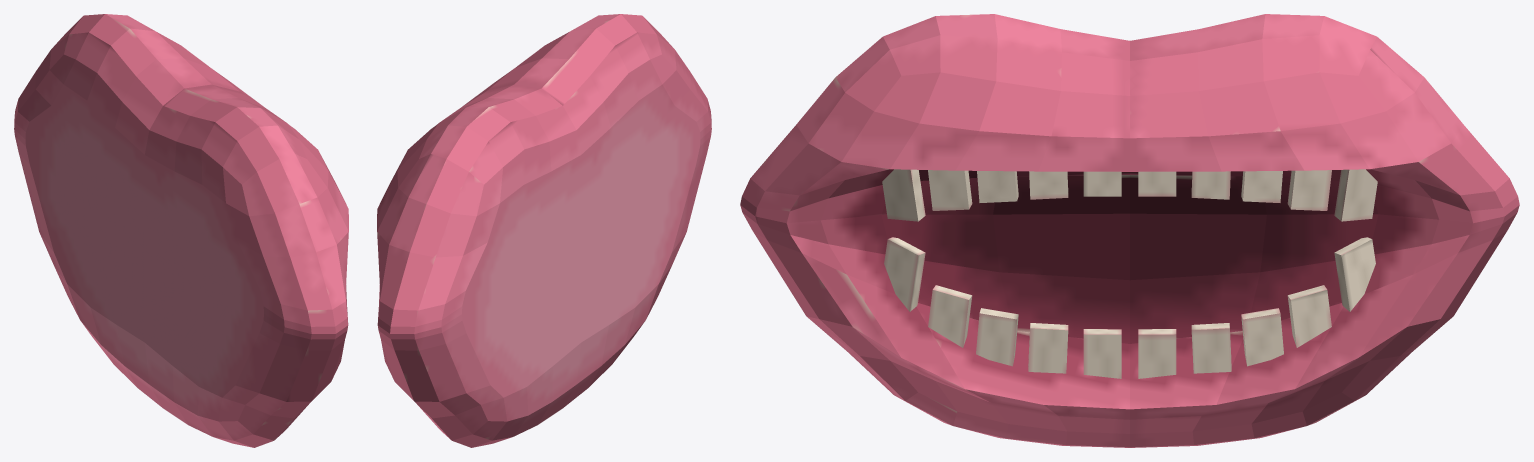
The model's file is mouth_bomb.fbx.
3 renders of one model, left to right at view 1: azimuth 30°, elevation 25°; view 2: azimuth 150°, elevation 25°; view 3: azimuth 270°, elevation 25°, orthographic. The views are drawn at different scales.
Visible parts, largest first — view 1: Box005; view 2: Box005; view 3: Box005.
Boxes of the visible parts, x1,y1,x2,y2 form: Box005: [14, 14, 348, 447]; Box005: [377, 14, 711, 447]; Box005: [740, 14, 1519, 447].
Bounding box in the file's own units: 51.01 × 133 × 216.
Materials: 1 (1 with a texture image).
